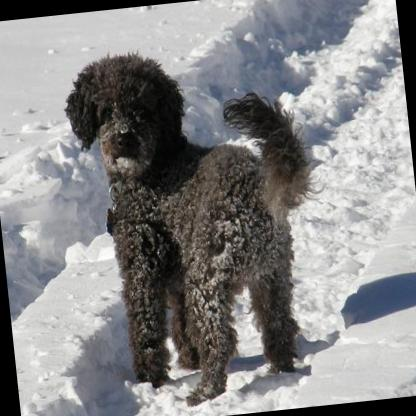miniature_poodle: (56, 32, 332, 412)
